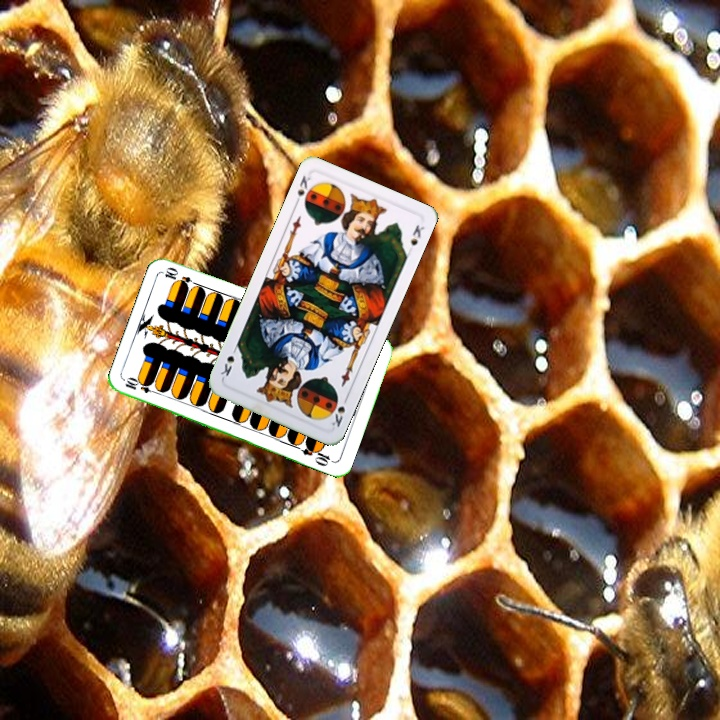E10: (121, 376, 161, 397)
SK: (327, 392, 351, 430), (290, 171, 313, 208)
